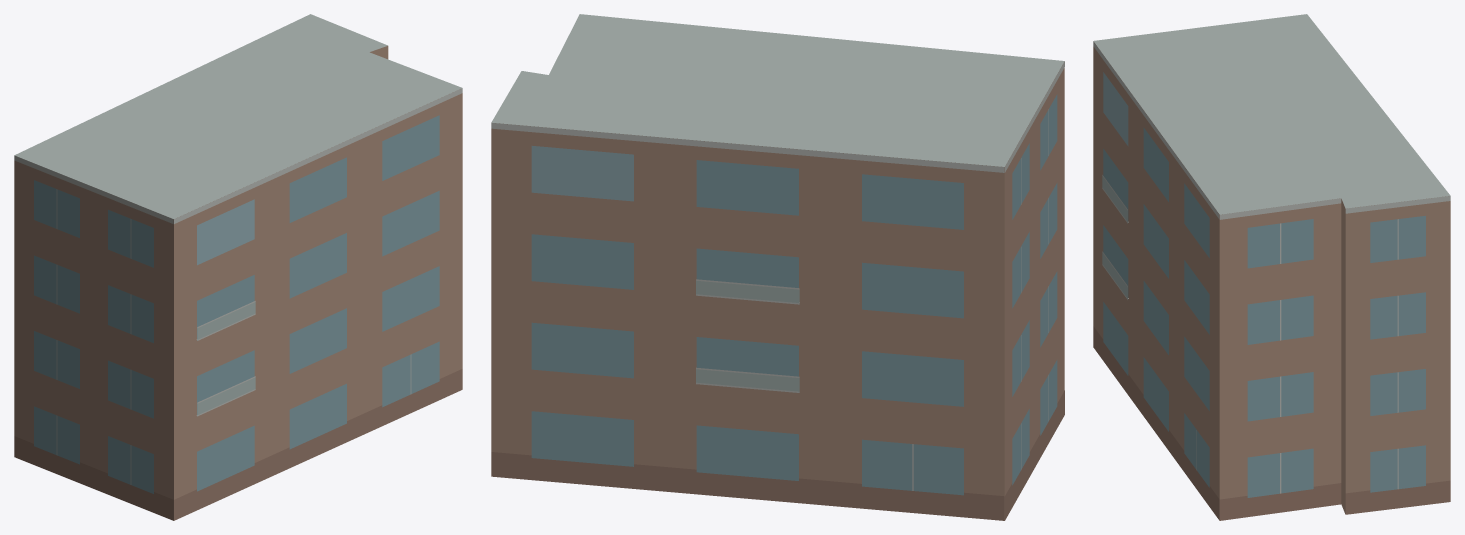
The model's file is survey-upis-32899502.glb.
3 renders of one model, left to right at view 1: azimuth 30°, elevation 25°; view 2: azimuth 150°, elevation 25°; view 3: azimuth 270°, elevation 25°, orthographic. The views are drawn at different scales.
Visible parts, largest first — view 1: survey-upis-32899502.tmp; view 2: survey-upis-32899502.tmp; view 3: survey-upis-32899502.tmp.
Part boxes in pixels (x1,y1,x2,y2): survey-upis-32899502.tmp: [14, 14, 462, 520]; survey-upis-32899502.tmp: [491, 14, 1064, 520]; survey-upis-32899502.tmp: [1093, 14, 1450, 520].
Size of the model in its own units: 20.4 by 14.5 by 15.35.
